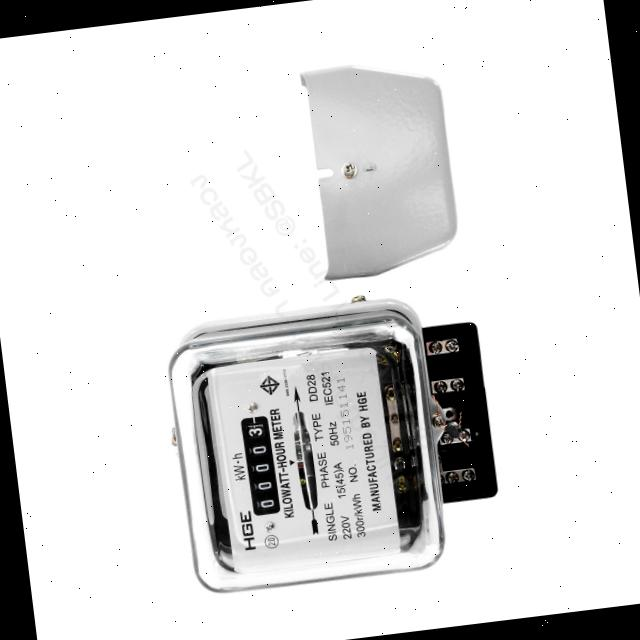digit_area: (241, 412, 279, 517)
